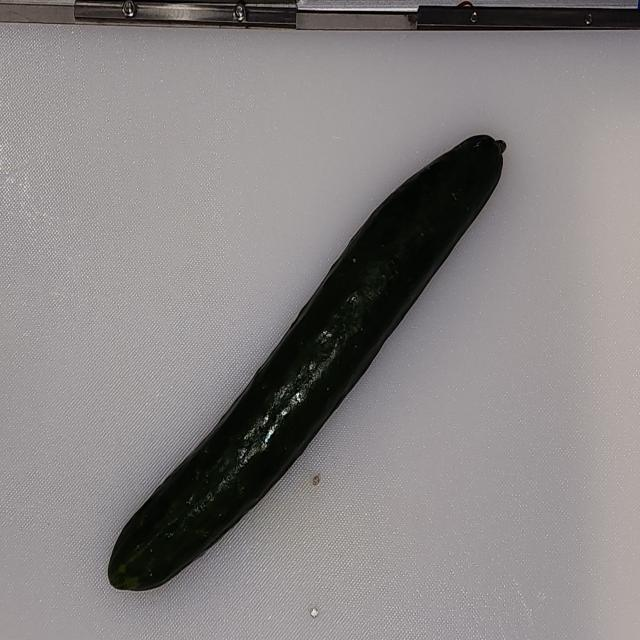cucumber: (106, 132, 506, 592)
